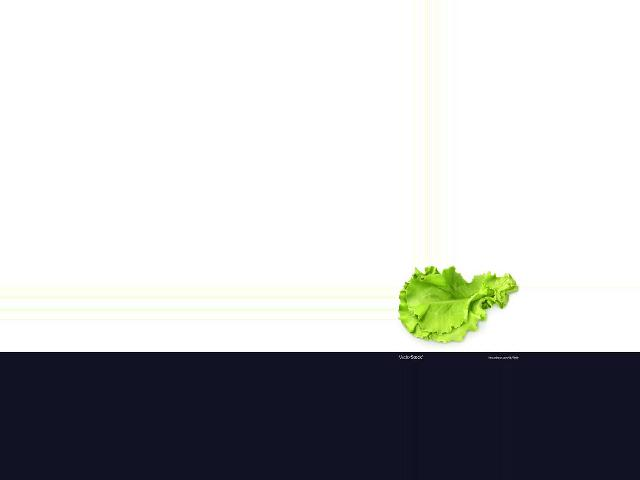lettuce: (398, 265, 515, 349)
